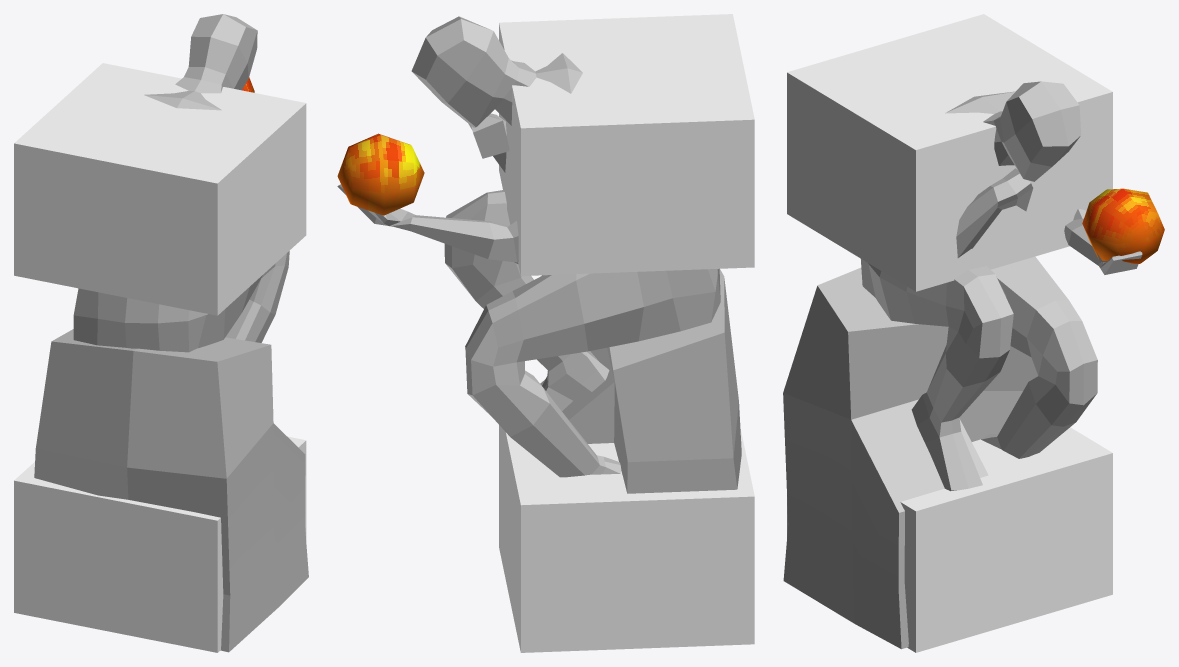
Rendered from Statue (1).fbx.
3 views of the same model, side by side, from view 1: azimuth 30°, elevation 25°; view 2: azimuth 150°, elevation 25°; view 3: azimuth 270°, elevation 25° (orthographic). The views are drawn at different scales.
Visible parts, largest first — view 1: Statue (1), Cube, Cube (1); view 2: Statue (1), Cube, Cube (1), Sphere_8; view 3: Statue (1), Cube, Cube (1), Sphere_8.
Boxes of the visible parts, x1=… form: Statue (1): x1=34, y1=14, x2=308, y2=652; Cube: x1=14, y1=63, x2=306, y2=315; Cube (1): x1=14, y1=436, x2=306, y2=652; Statue (1): x1=337, y1=16, x2=741, y2=493; Cube: x1=499, y1=14, x2=754, y2=275; Cube (1): x1=499, y1=425, x2=754, y2=652; Sphere_8: x1=337, y1=133, x2=424, y2=215; Statue (1): x1=783, y1=81, x2=1142, y2=649; Cube: x1=787, y1=14, x2=1112, y2=291; Cube (1): x1=787, y1=427, x2=1112, y2=652; Sphere_8: x1=1082, y1=188, x2=1164, y2=263.
Bounding box in the file's own units: 4.79 × 7.9 × 4.89.
